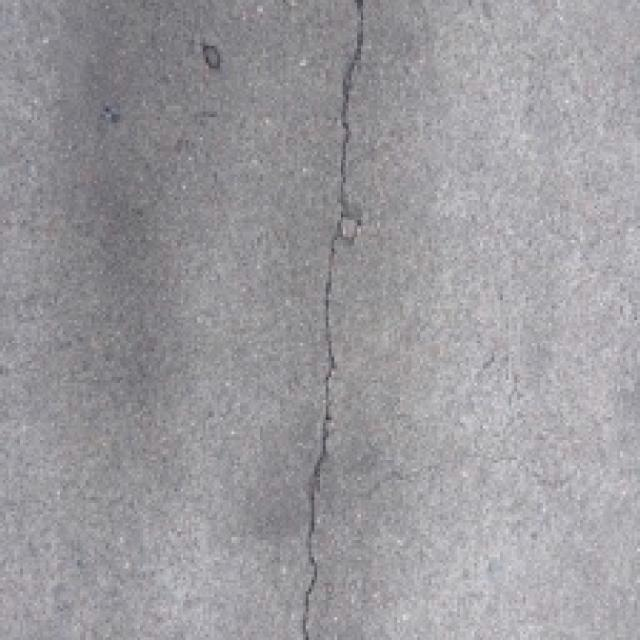crack: (242, 0, 402, 640)
